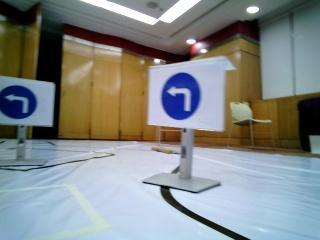left: (151, 67, 218, 126), (0, 79, 48, 122)
